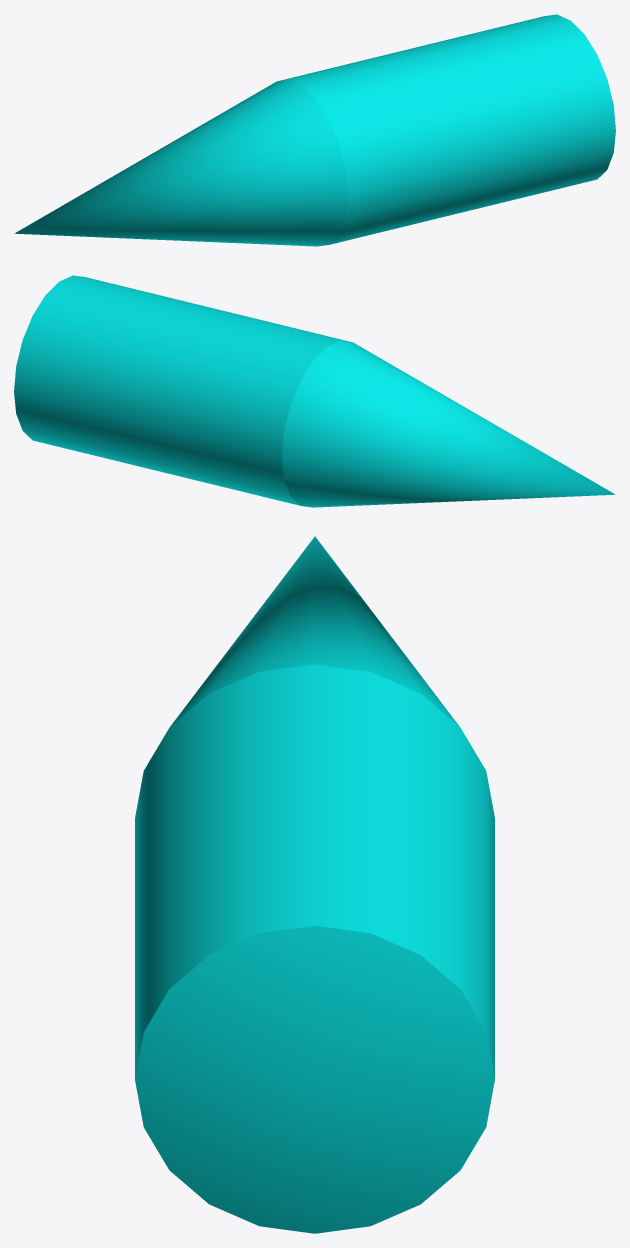
The model's file is ModeloMagiaRaio.fbx.
The picture shows the model from 3 angles, top to bottom: view 1: azimuth 30°, elevation 25°; view 2: azimuth 150°, elevation 25°; view 3: azimuth 270°, elevation 25°; orthographic projection. The views are drawn at different scales.
Visible parts, largest first — view 1: pCylinder1; view 2: pCylinder1; view 3: pCylinder1.
Part boxes in pixels (left/top/right/bottom): pCylinder1: left=14, top=14, right=615, bottom=246; pCylinder1: left=14, top=275, right=615, bottom=507; pCylinder1: left=135, top=536, right=494, bottom=1233.
Bounding box in the file's own units: 6.34 × 1.62 × 1.71.
